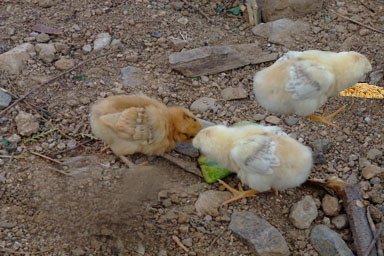copymove: (248, 49, 373, 120)
removal: (42, 167, 155, 240)
spliced: (343, 79, 384, 98)
